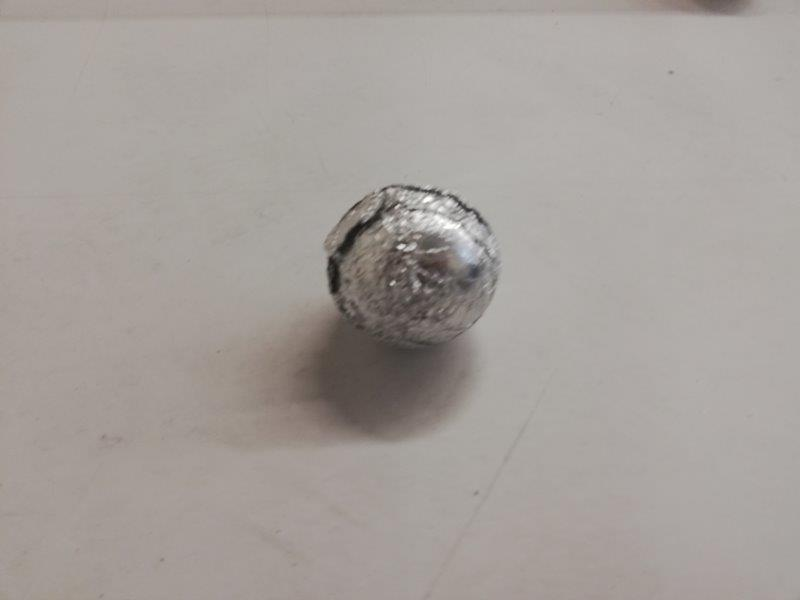bianca: (324, 184, 501, 351)
